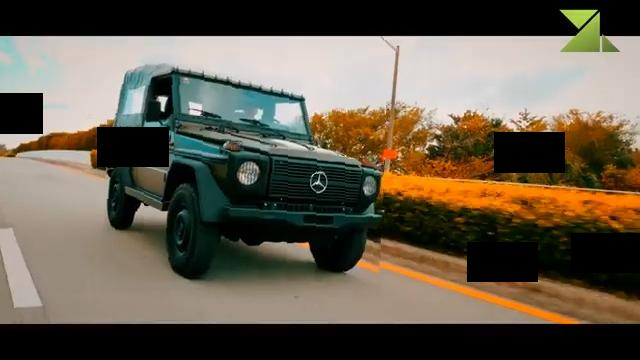MIL_HMMWV: (105, 63, 386, 281)
